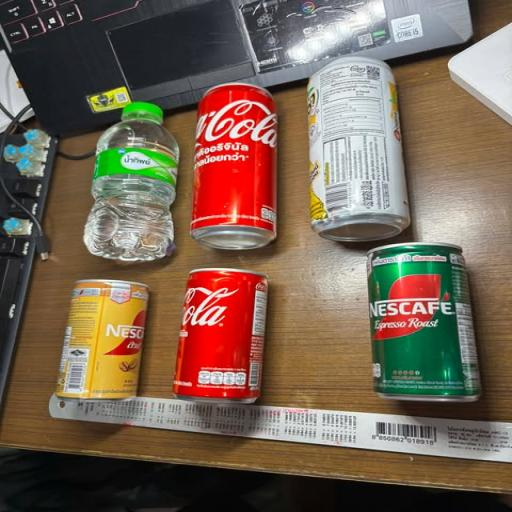bottle: (36, 83, 182, 270)
canned: (320, 241, 506, 414), (287, 54, 415, 251), (164, 269, 312, 406), (37, 266, 159, 418), (187, 77, 289, 257)
